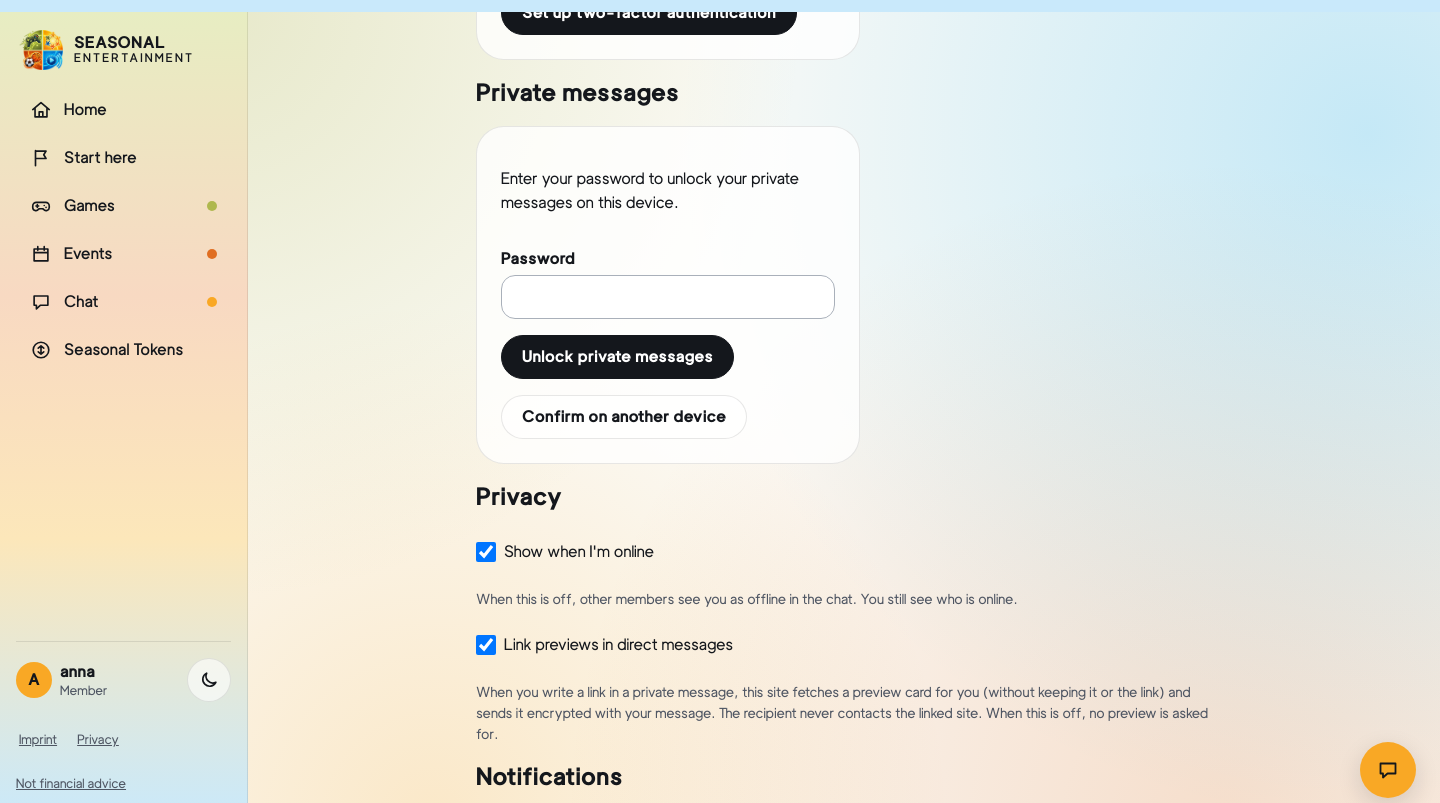
the new device › rejected: nothing is unlocked
(page scrolled)
Click the button "Confirm on another device" at (624, 417), box [501, 395, 747, 439]
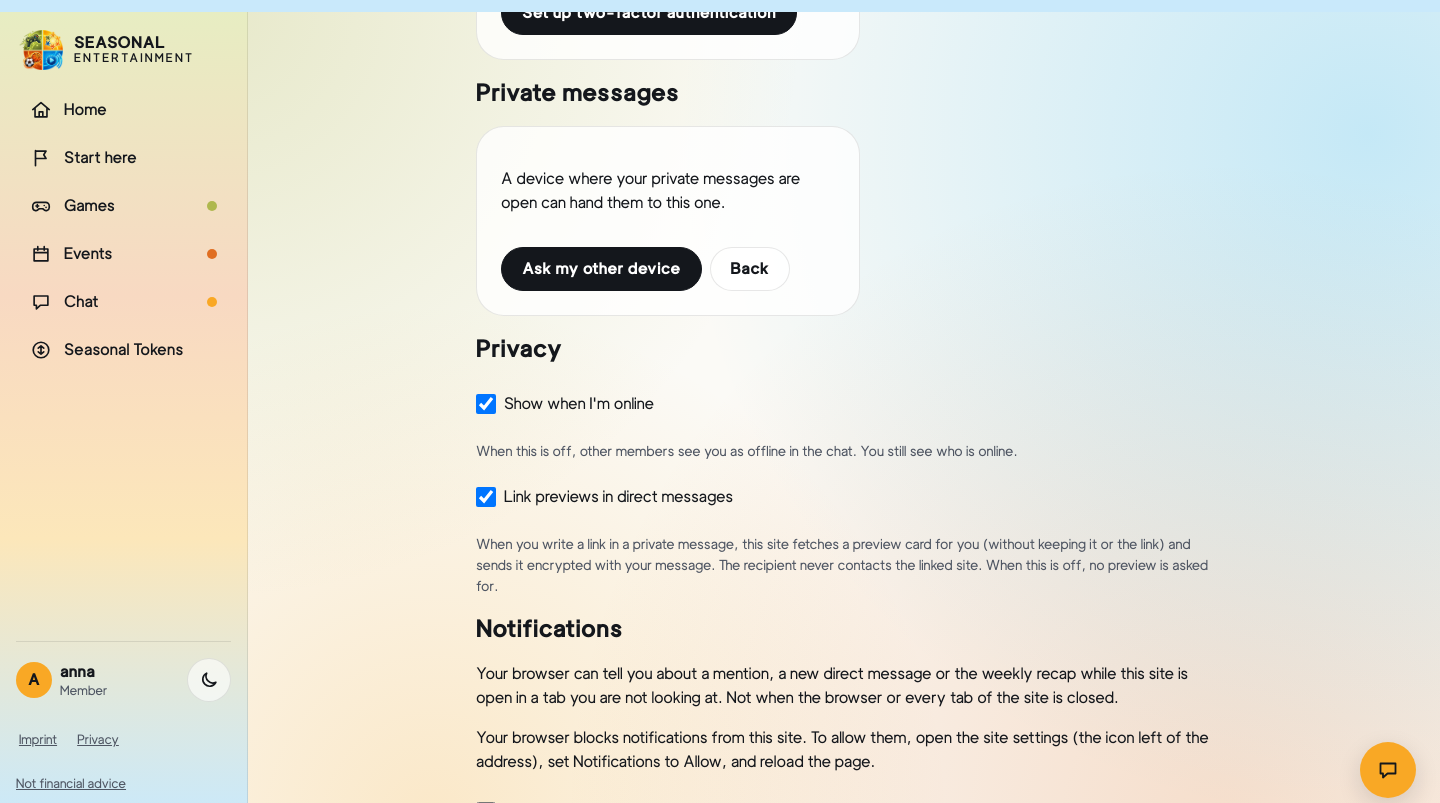
Click the button "Ask my other device" at (601, 269), box [501, 247, 702, 291]
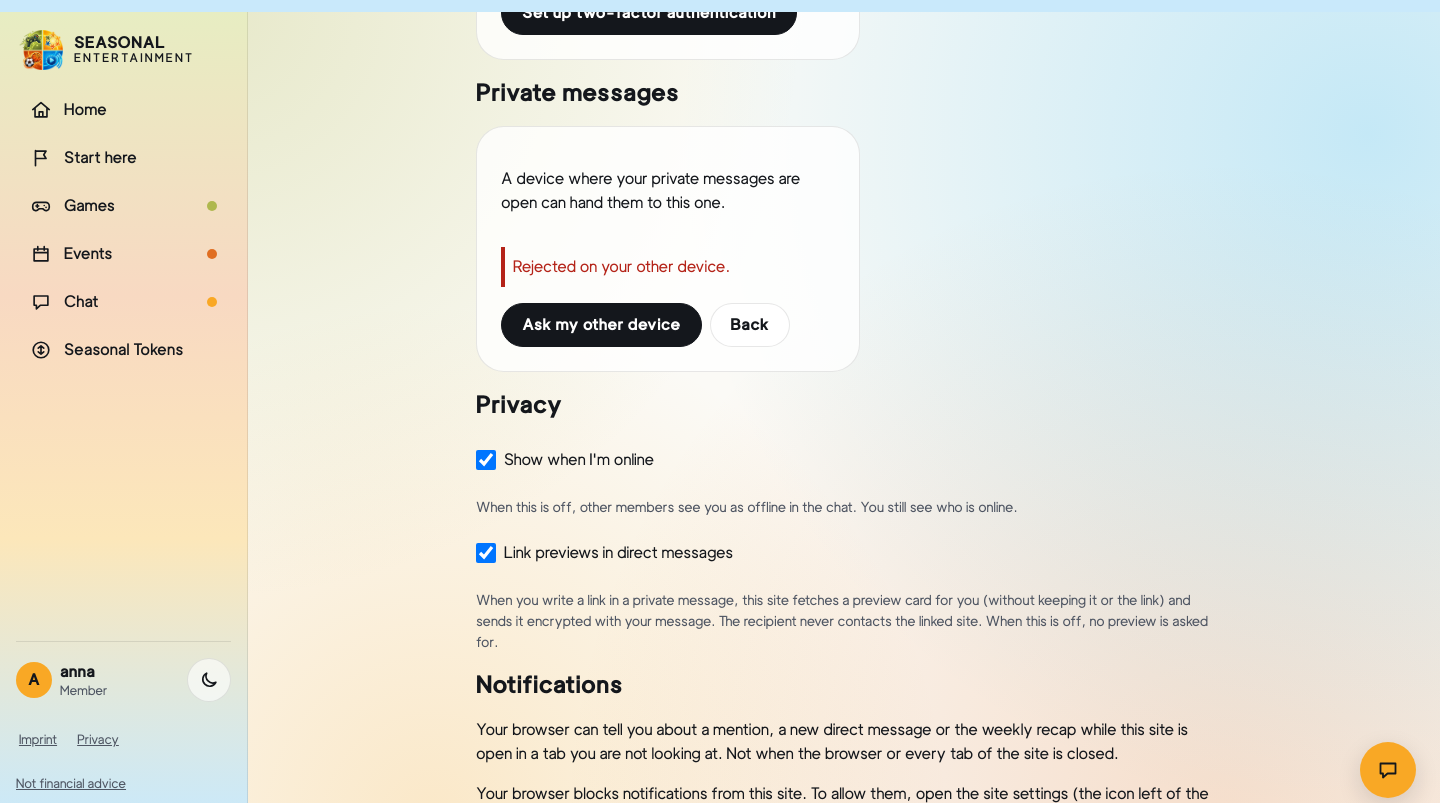
Result: the text "Rejected on your other device." is shown at [501, 247, 835, 287]
